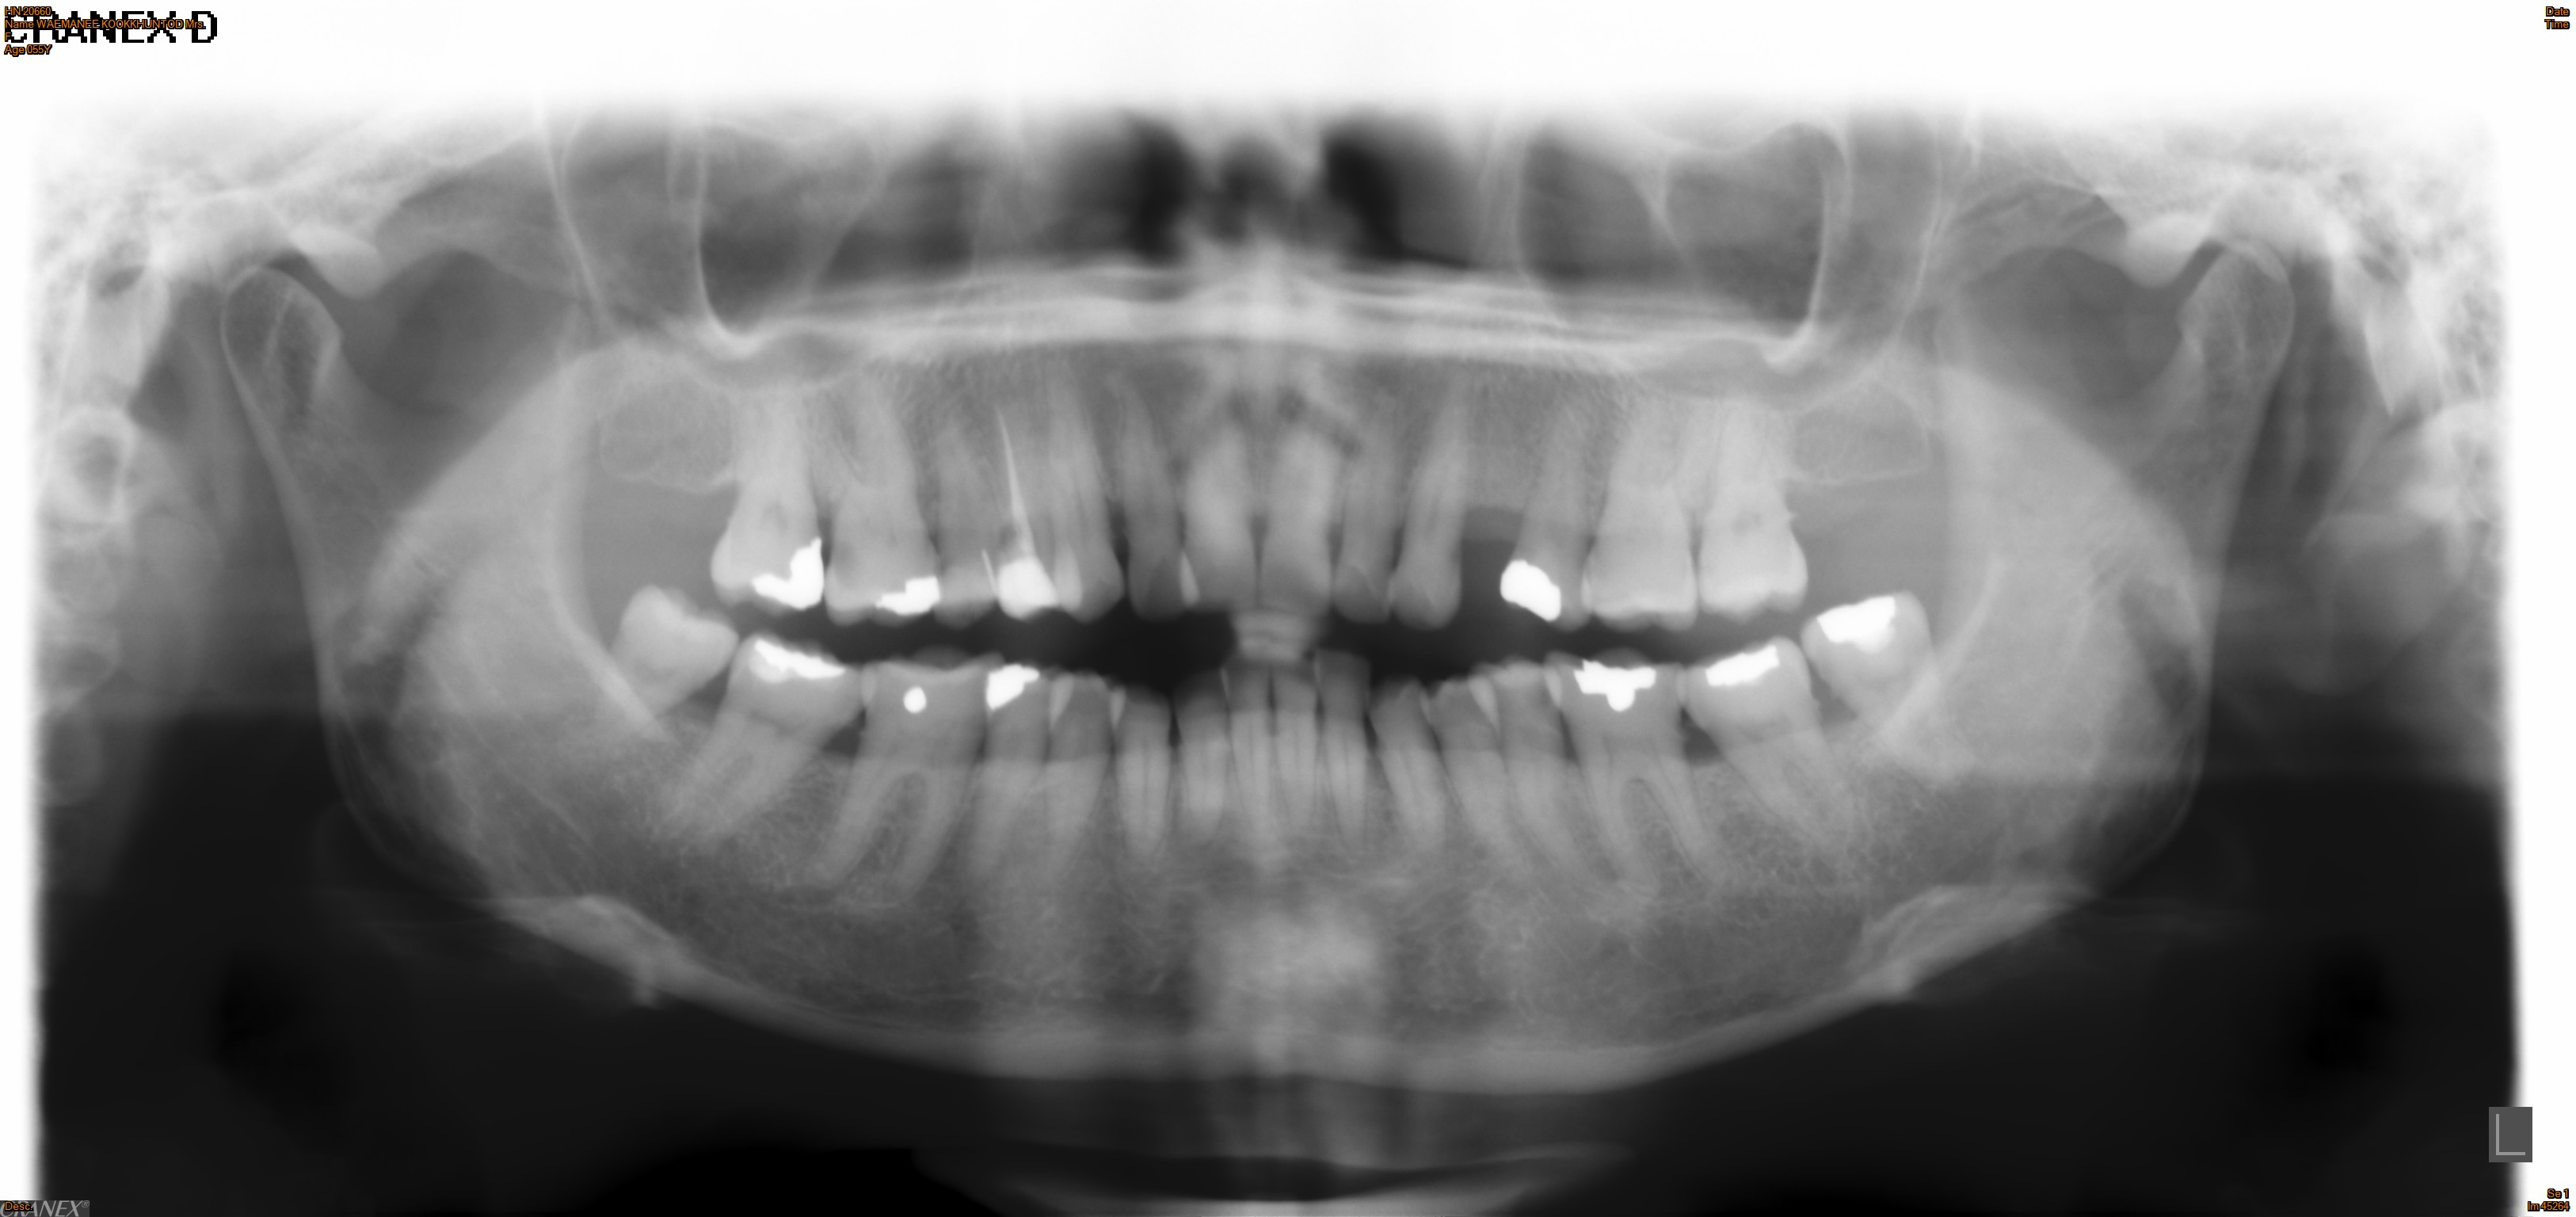periodontitis: (787, 639, 1015, 921), (1541, 644, 1740, 918), (1674, 627, 1871, 866), (1569, 397, 1712, 641), (703, 376, 836, 624), (820, 383, 950, 636), (1492, 378, 1612, 639), (1692, 394, 1820, 627)
